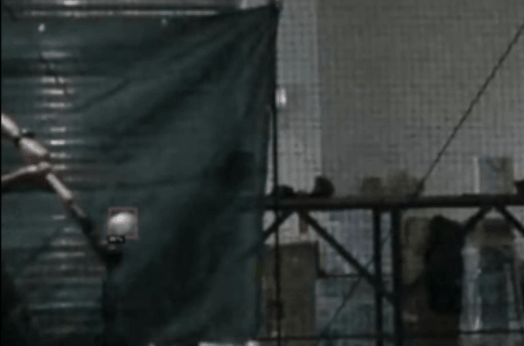ball: (106, 212, 137, 235)
